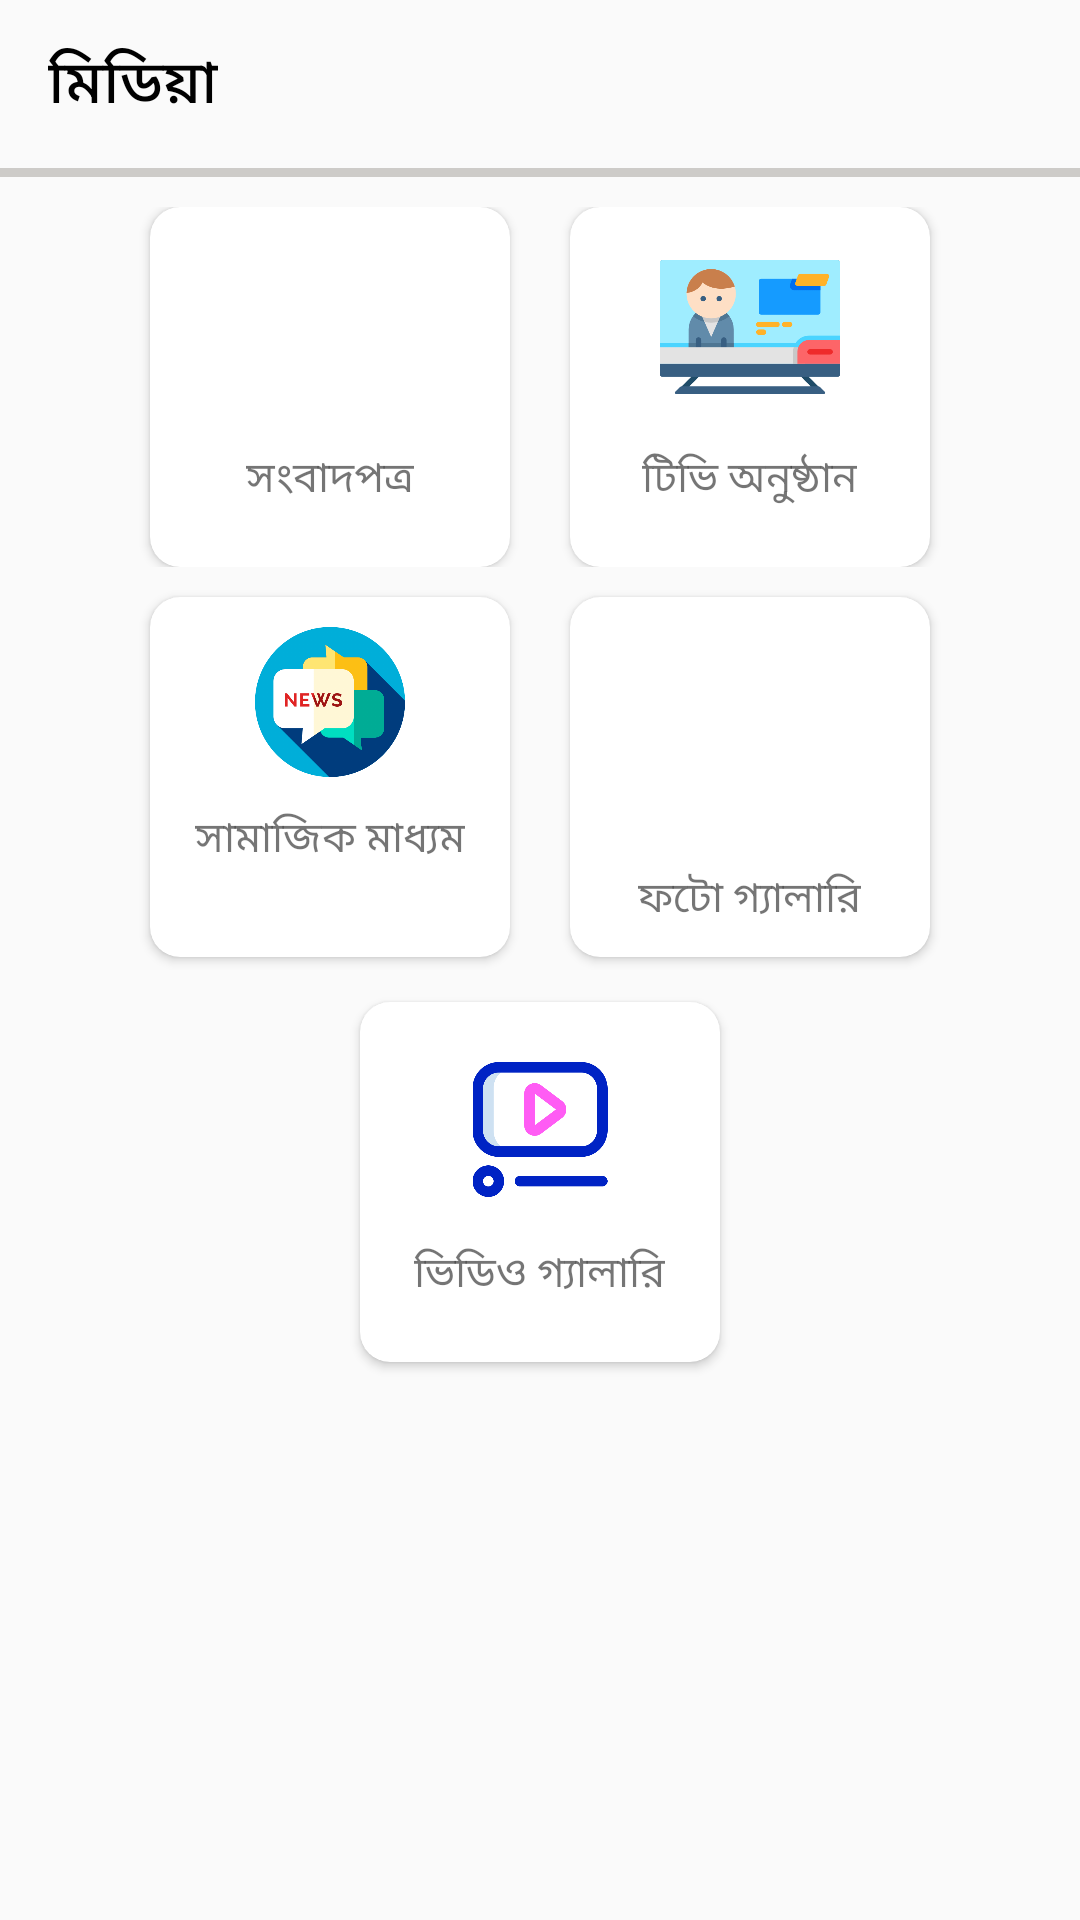

Icon click points for this 1080*1920 phone screenshot, format [x,y]:
social news: [330,702]
tv reporter: [750,327]
video: [540,1129]
